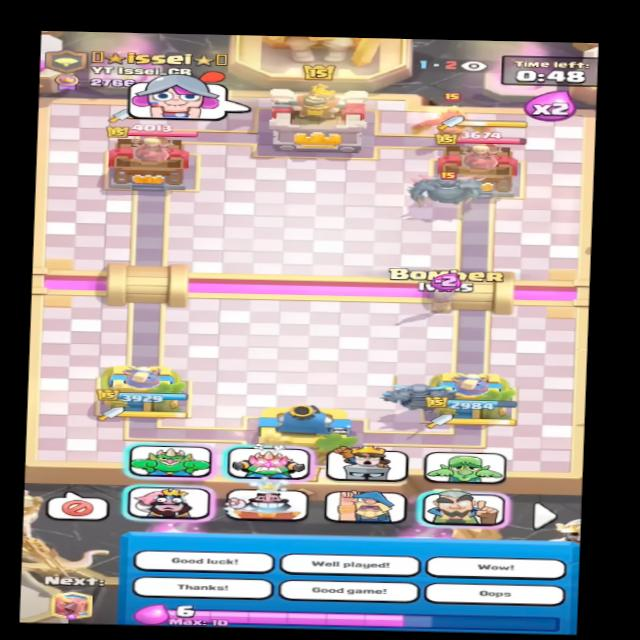pekka: (401, 169, 489, 211)
phoenix: (401, 96, 503, 138)
